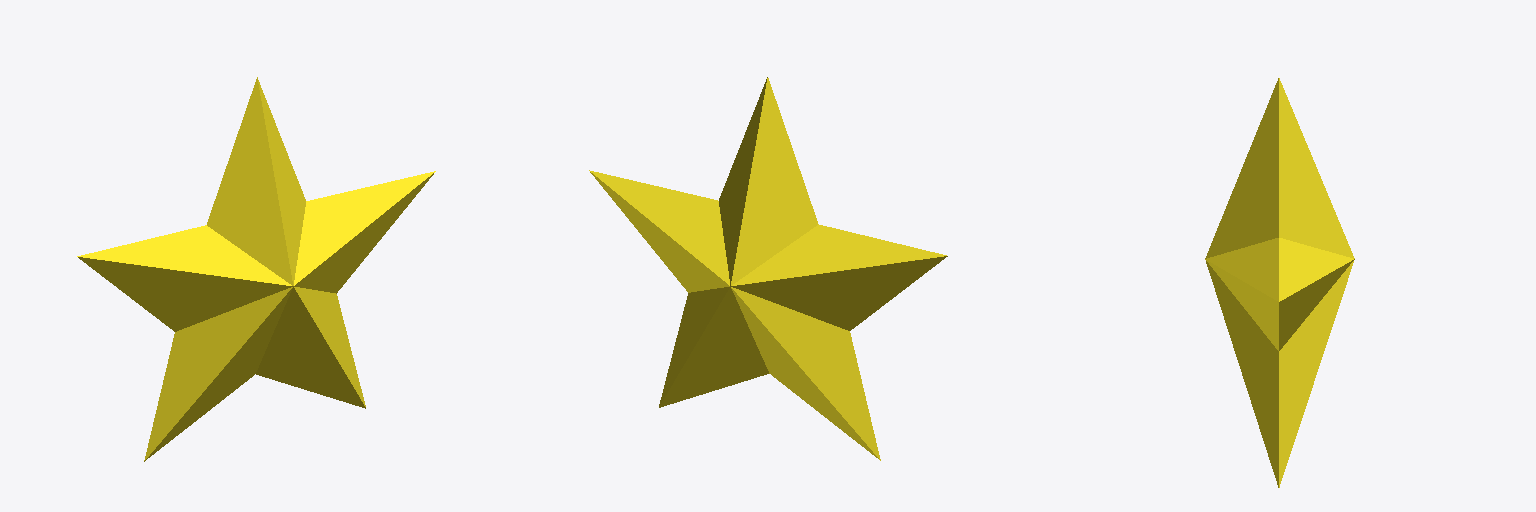
File: Star.obj
3 renders of one model, left to right at view 1: azimuth 30°, elevation 25°; view 2: azimuth 150°, elevation 25°; view 3: azimuth 270°, elevation 25°, orthographic.
Visible parts, largest first — view 1: estrellica; view 2: estrellica; view 3: estrellica.
Boxes of the visible parts, box(x1,y1,x2,y2) form: estrellica: box(77, 77, 435, 461); estrellica: box(589, 77, 947, 460); estrellica: box(1205, 78, 1354, 487).
Size of the model in its own units: 0.6975 by 0.6646 by 0.2516.